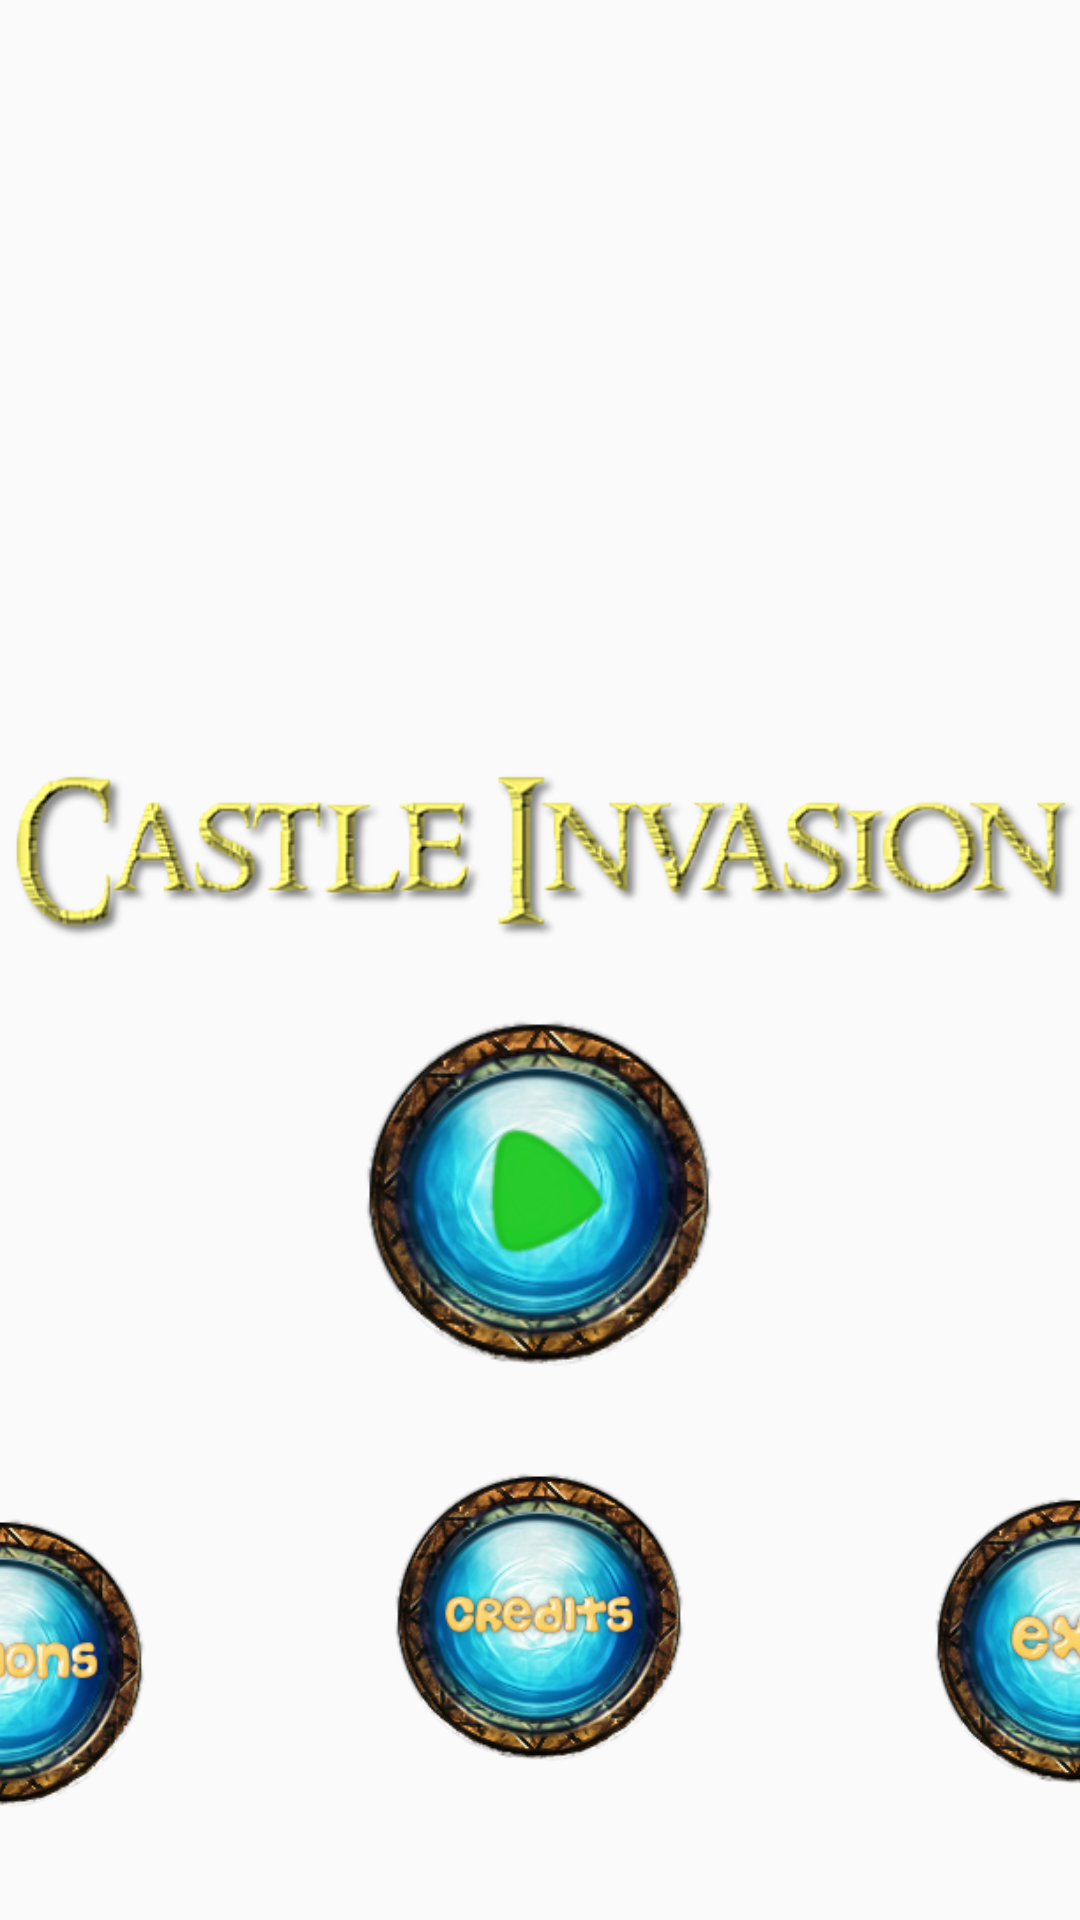

Where icons sit on this 1080 x 1920 app screen, as bbox(x1, y1, x2, y2):
play: bbox(367, 1022, 711, 1364)
